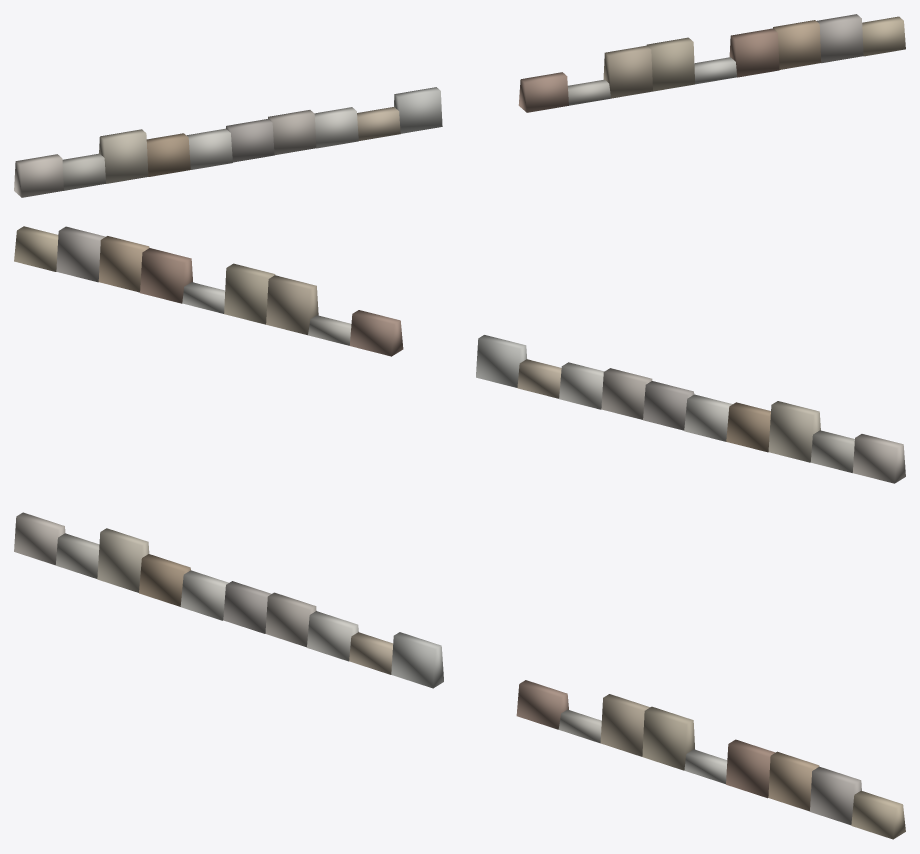
Rendered from farm_35_24_collision.glb.
3 views of the same model, one above another, from view 1: azimuth 30°, elevation 25°; view 2: azimuth 150°, elevation 25°; view 3: azimuth 330°, elevation 25° (orthographic). The views are drawn at different scales.
Visible parts, largest first — view 1: geometry_0; view 2: geometry_0; view 3: geometry_0.
Part boxes in pixels (x1=…): geometry_0: x1=14, y1=14, x2=905, y2=197; geometry_0: x1=14, y1=226, x2=905, y2=483; geometry_0: x1=14, y1=512, x2=905, y2=839.
Bounding box in the file's own units: 32.08 × 2.49 × 3.12.
